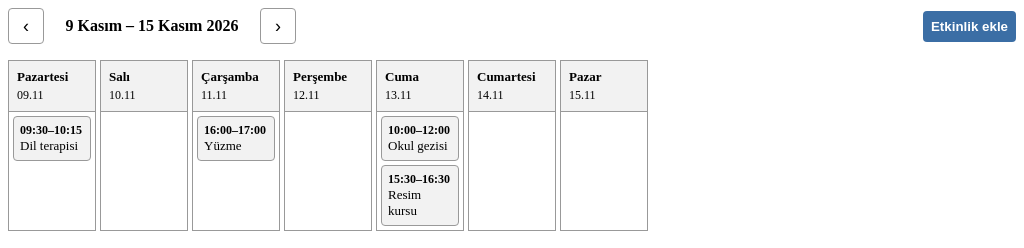
WeeklySchedulePage › week view (FR-M3-03) › shows none of the old events while the next week loads
Later steps or results of the test are not shown.
Click the button named "Sonraki hafta": click(278, 26) 260,8 -> 296,44
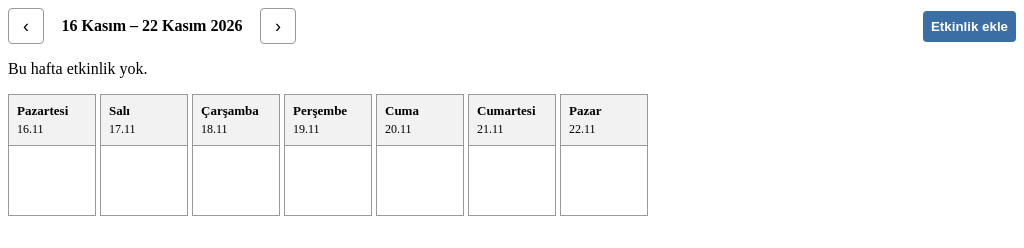
Expected: the list item with test id "event" is gone
Expected: the text "Bu hafta etkinlik yok." is shown, 8,60 -> 148,77
